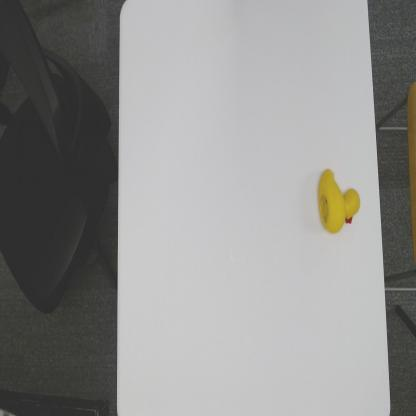Duck: (316, 166, 362, 236)
